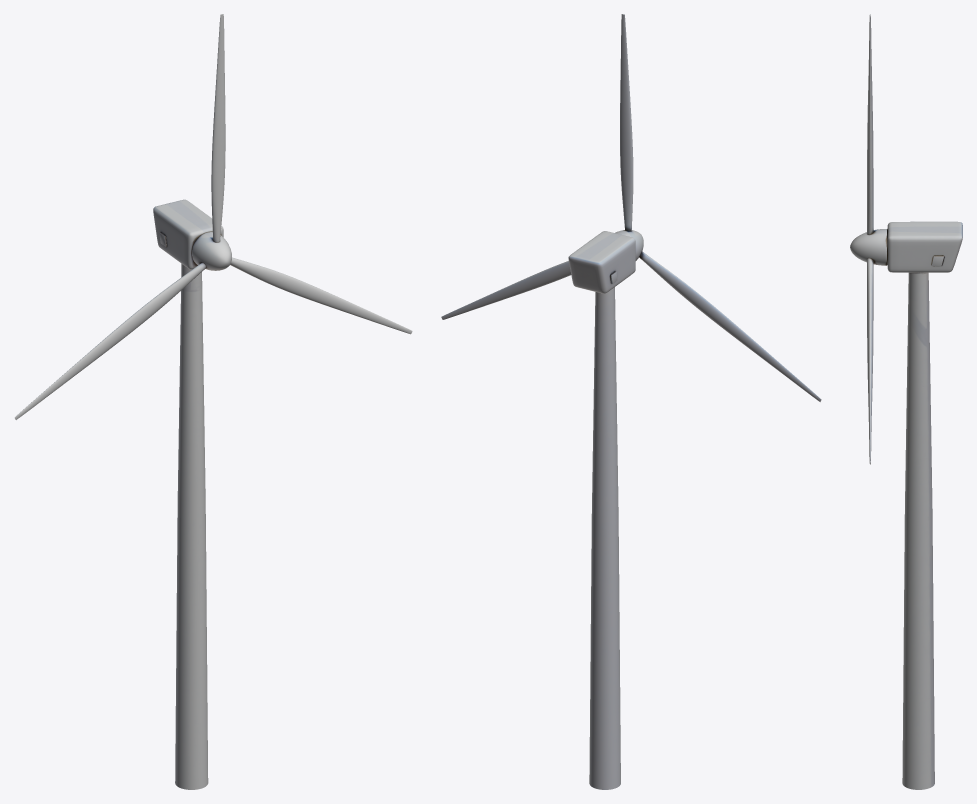
File: game_ready_wind_turbine_animated.glb
The picture shows the model from 3 angles, left to right: view 1: azimuth 30°, elevation 25°; view 2: azimuth 150°, elevation 25°; view 3: azimuth 270°, elevation 25°; orthographic projection. The views are drawn at different scales.
Parts seen in each view (by area): view 1: Cube, Cube.001; view 2: Cube, Cube.001; view 3: Cube, Cube.001.
Boxes of the visible parts, x1,y1,x2,y2 form: Cube: (153, 199, 223, 789); Cube.001: (14, 14, 412, 419); Cube: (568, 231, 635, 789); Cube.001: (441, 14, 821, 401); Cube: (887, 221, 962, 789); Cube.001: (850, 14, 887, 464).
Bounding box in the file's own units: 0.607 × 1.14 × 0.1517.
Materials: 1 (1 with a texture image).
